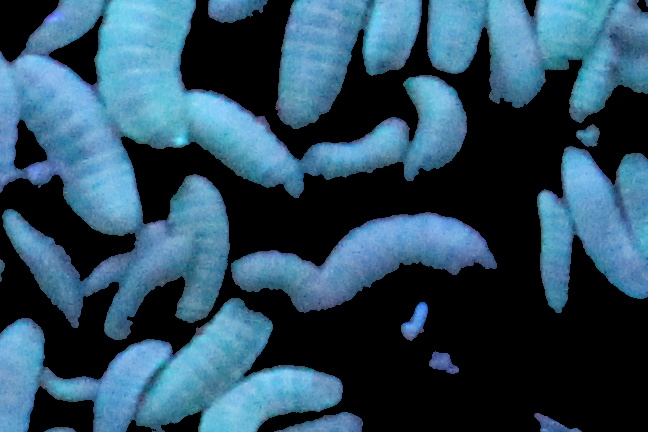larvae: (15, 55, 143, 234), (130, 298, 272, 432), (314, 212, 506, 307), (100, 1, 193, 148), (561, 146, 648, 300), (191, 90, 304, 198), (276, 1, 360, 123), (197, 362, 340, 432), (168, 176, 231, 321), (104, 233, 187, 338), (1, 209, 78, 322), (396, 65, 464, 184), (569, 1, 634, 122), (301, 111, 399, 187), (96, 338, 171, 432), (484, 1, 543, 106), (230, 247, 323, 311), (535, 1, 617, 69), (1, 318, 47, 432), (359, 1, 425, 79), (535, 189, 574, 312), (422, 1, 482, 73), (23, 1, 105, 52), (30, 360, 114, 401), (615, 151, 648, 254), (81, 251, 135, 294)
